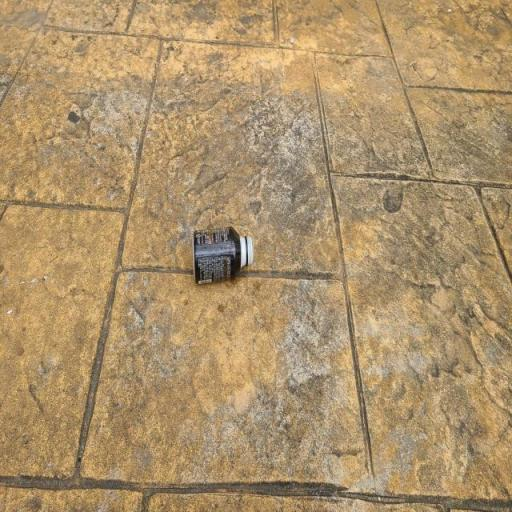metal: (182, 204, 260, 317)
